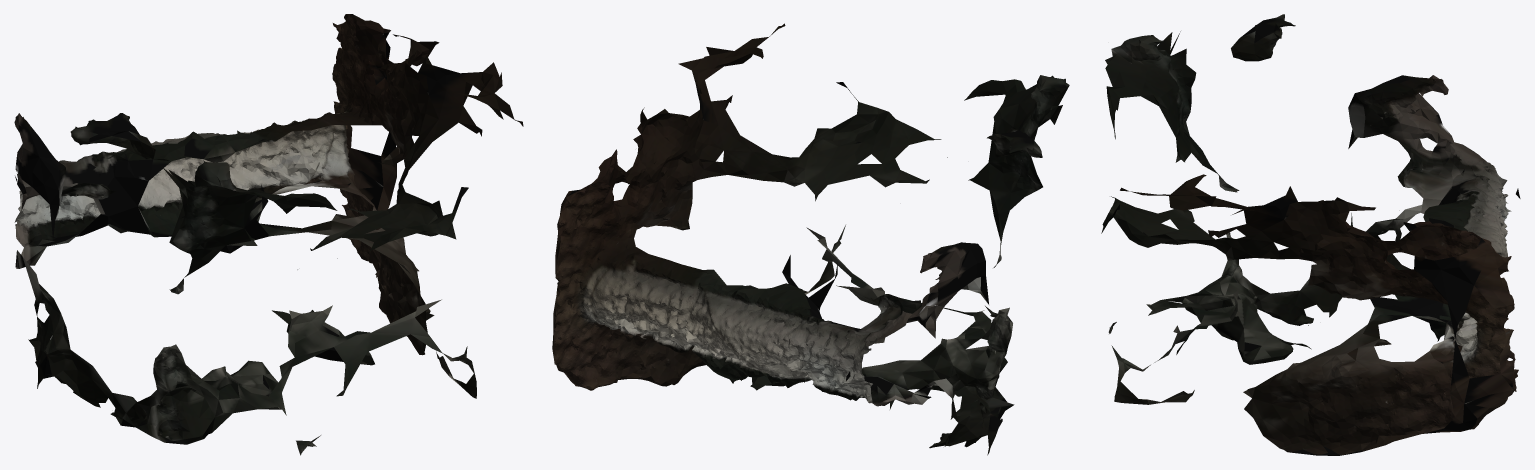
The model's file is texturedMesh.obj.
3 views of the same model, side by side, from view 1: azimuth 30°, elevation 25°; view 2: azimuth 150°, elevation 25°; view 3: azimuth 270°, elevation 25° (orthographic). The views are drawn at different scales.
Parts seen in each view (by area): view 1: TexturedMesh; view 2: TexturedMesh; view 3: TexturedMesh.
Part boxes in pixels (x1,y1,x2,y2): TexturedMesh: [14, 14, 523, 455]; TexturedMesh: [552, 23, 1069, 455]; TexturedMesh: [1101, 14, 1520, 455].
Size of the model in its own units: 8.06 by 5.88 by 7.69.
1 material, 1 textured.
